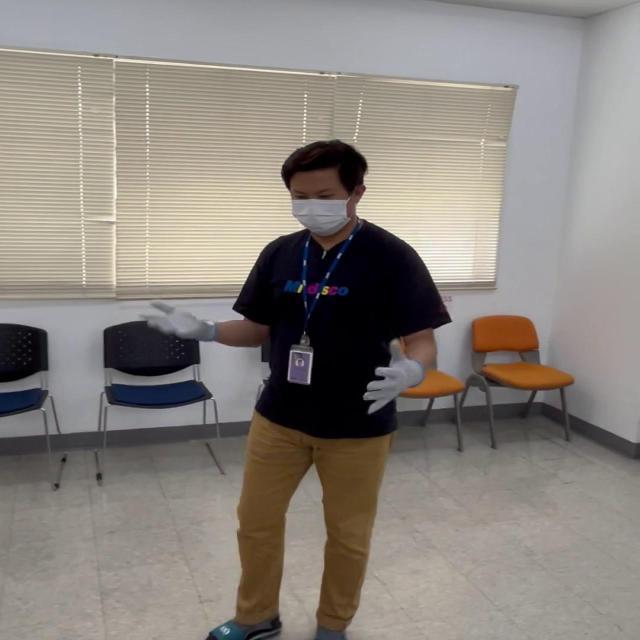gloved_hand: (146, 292, 222, 360), (350, 348, 427, 411)
